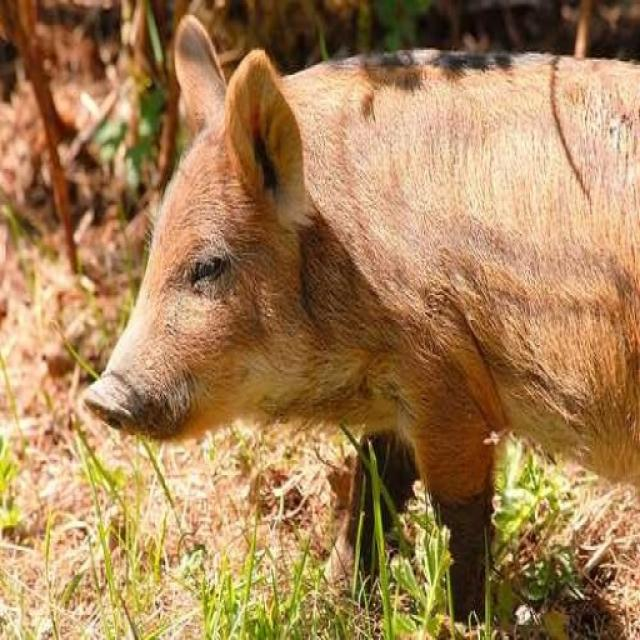pig: (41, 0, 640, 560)
